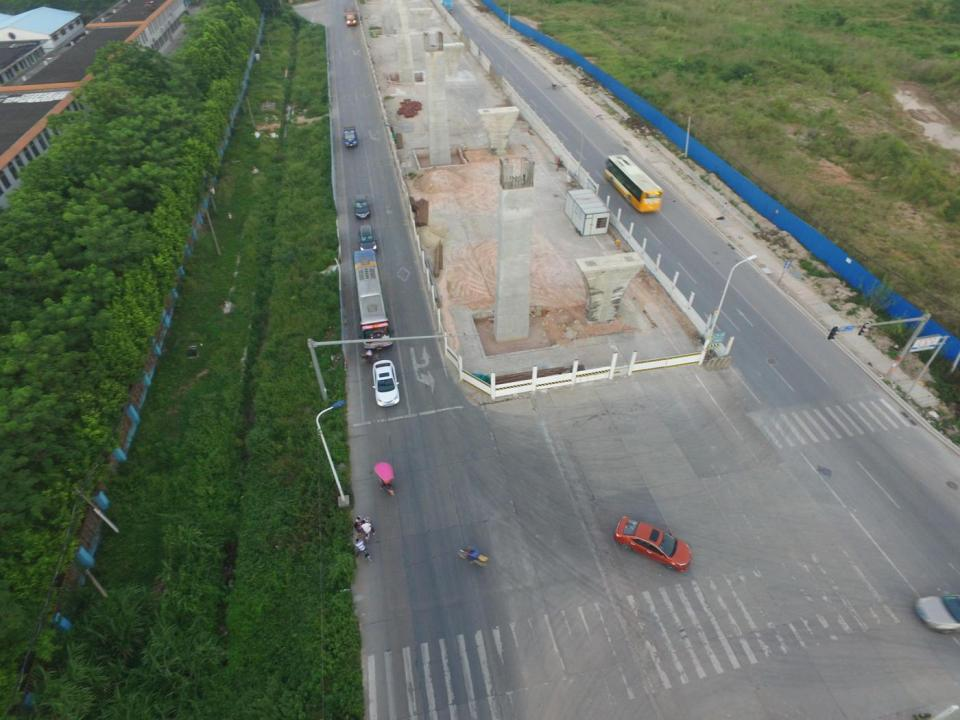bus: (352, 248, 393, 351), (604, 154, 663, 212)
car: (615, 517, 693, 573), (914, 596, 960, 632), (372, 360, 400, 405), (358, 224, 376, 253), (353, 194, 371, 219)
truck: (342, 2, 358, 28), (342, 125, 359, 149)
